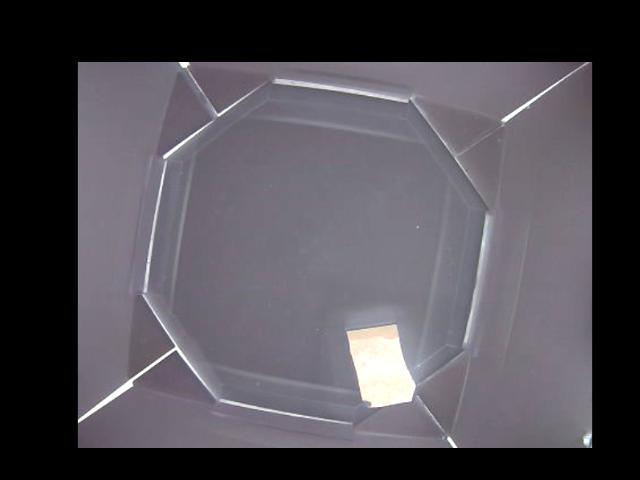China: (345, 322, 416, 406)
